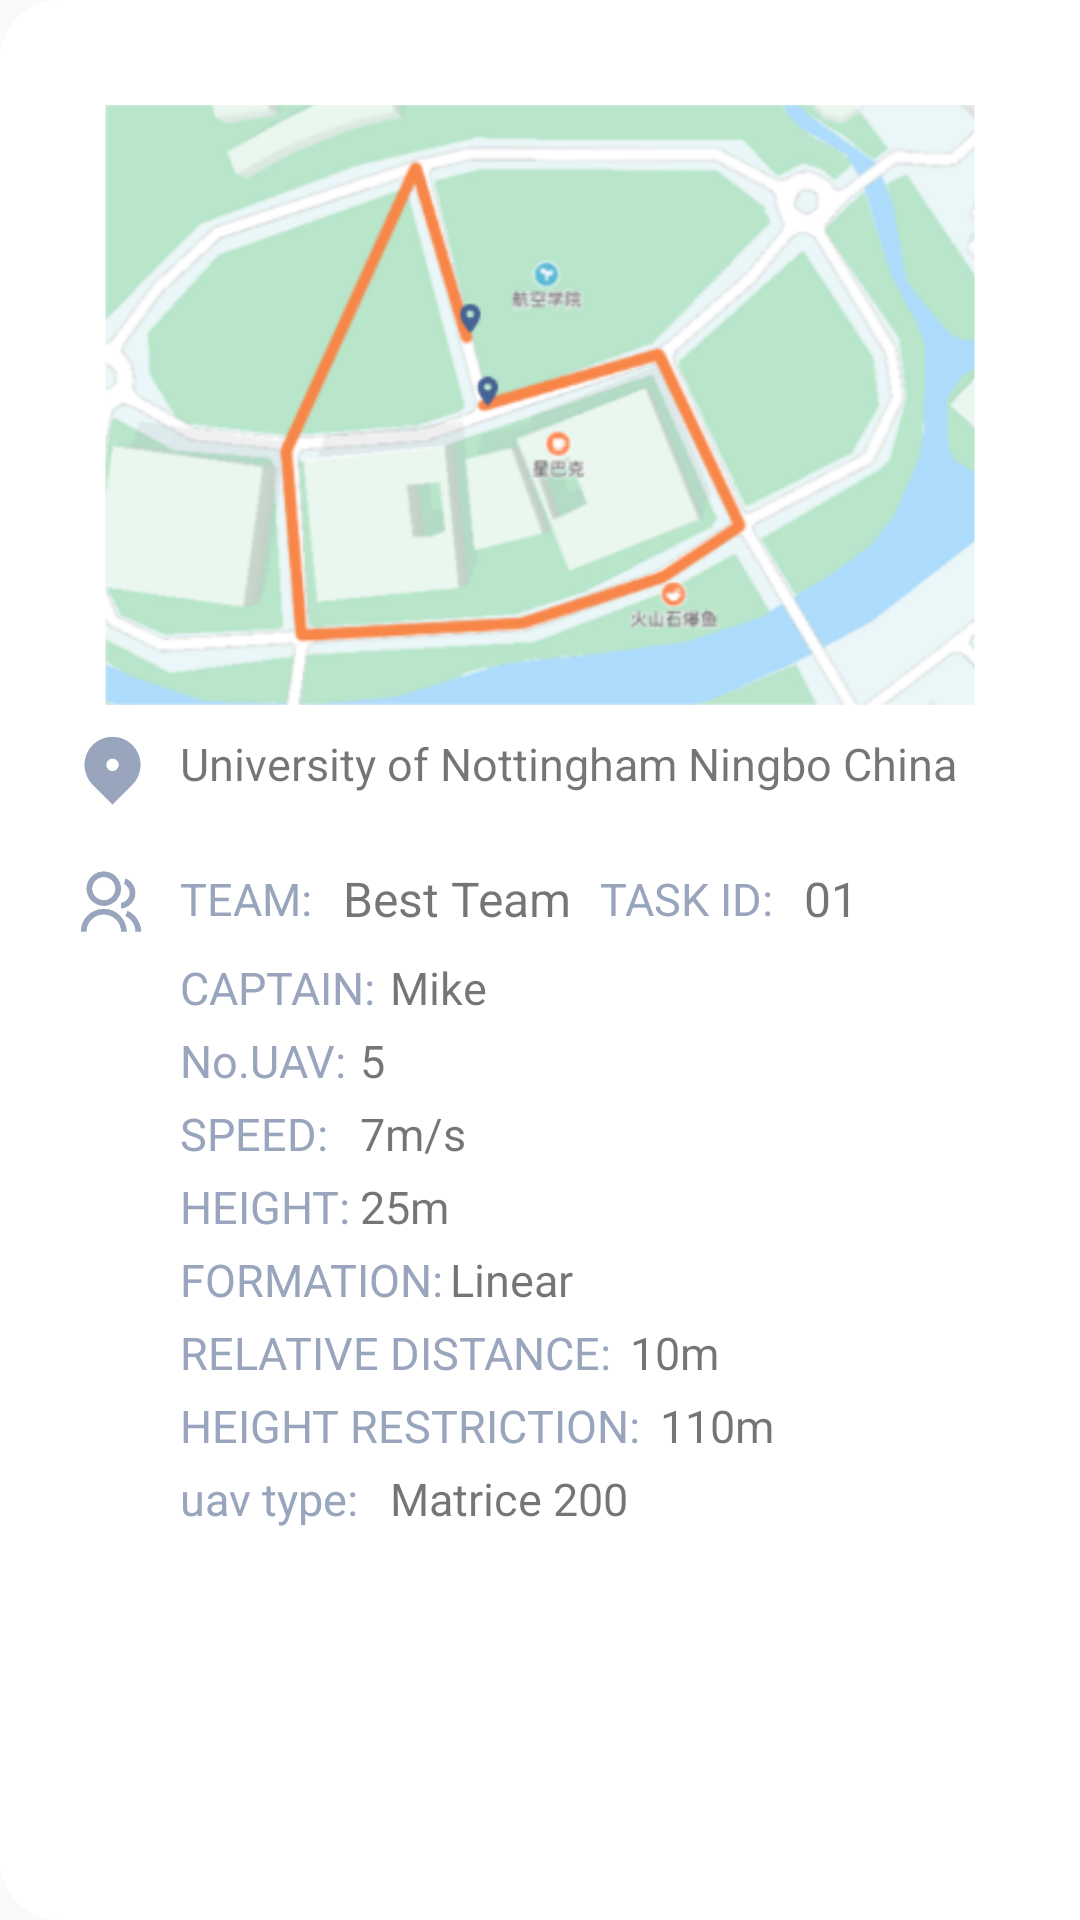

Icons on this 1080px×1920px Android screen, each with the point to tap as point (x, y):
pin: point (112, 771)
